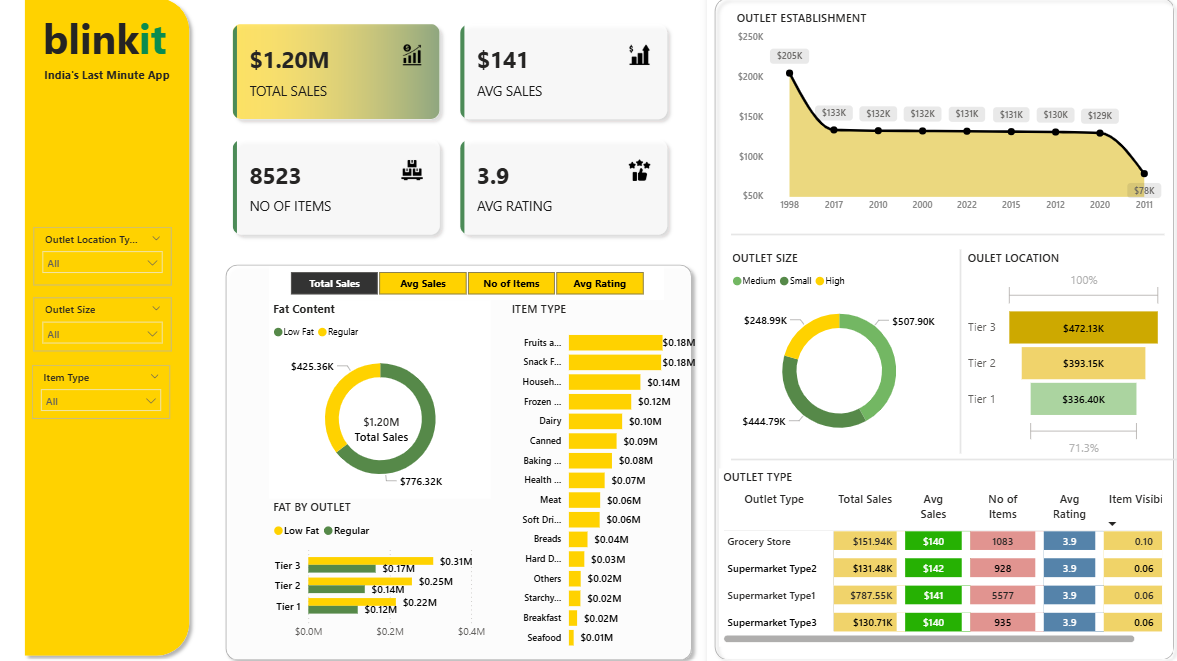

This screenshot's page, from the dashboard's own definition file:
{"tool":"powerbi","page":{"name":"Page 1","canvas":[1398,800],"ordinal":0},"visuals":[{"type":"shape","box":[837.7,0,560.2,798.8],"z":0},{"type":"shape","box":[24.7,0,212.1,793.5],"z":1000},{"type":"textbox","box":[37.1,17.7,182,81.3],"z":2000},{"type":"textbox","box":[24.7,84.8,212.1,40.6],"z":3000},{"type":"cardVisual","fields":{"Data":["blinkit_data - Copy.Total Sales","blinkit_data - Copy.Avg Sales","blinkit_data - Copy.No of Items","blinkit_data - Copy.Avg Rating"]},"box":[261.6,23,546.1,282.8],"z":4000},{"type":"shape","box":[261.6,314.6,567.3,484.3],"z":5000},{"type":"donutChart","title":"Fat Content","fields":{"Y":["blinkit_data - Copy.Total Sales"],"Category":["blinkit_data - Copy.Item Fat Content"]},"box":[321.7,365.8,261.6,233.3],"z":6000},{"type":"slicer","fields":{"Values":["Metrics.Metrics"]},"box":[321.7,325.2,465,40],"z":7000},{"type":"cardVisual","fields":{"Data":["blinkit_data - Copy.Total Sales"]},"box":[397.7,480.7,113.1,72.5],"z":8000},{"type":"clusteredBarChart","title":"FAT BY OUTLET","fields":{"Category":["blinkit_data - Copy.Outlet Location Type"],"Y":["blinkit_data - Copy.Total Sales"],"Series":["blinkit_data - Copy.Item Fat Content"]},"box":[321.7,599.1,261.6,175],"z":9000},{"type":"shape","box":[866,270.4,510.8,35.3],"z":10000},{"type":"shape","box":[1122.3,305.8,28.3,240.4],"z":11000},{"type":"barChart","title":"ITEM TYPE","fields":{"Y":["blinkit_data - Copy.Total Sales"],"Category":["blinkit_data - Copy.Item Type"]},"box":[602.7,365.8,226.2,420.6],"z":12000},{"type":"lineChart","title":"OUTLET ESTABLISHMENT","fields":{"Category":["blinkit_data - Copy.Outlet Establishment Year"],"Y":["blinkit_data - Copy.Total Sales"]},"box":[867.8,23,510.8,247.4],"z":13000},{"type":"donutChart","title":"OUTLET SIZE","fields":{"Y":["blinkit_data - Copy.Total Sales"],"Category":["blinkit_data - Copy.Outlet Size"]},"box":[862.5,305.8,261.6,240.4],"z":14000},{"type":"funnel","title":"OULET LOCATION","fields":{"Category":["blinkit_data - Copy.Outlet Location Type"],"Y":["blinkit_data - Copy.Total Sales"]},"box":[1139.9,305.8,238.6,249.2],"z":15000},{"type":"shape","box":[866,546.1,528.4,14.1],"z":16000},{"type":"pivotTable","title":"OUTLET TYPE","fields":{"Rows":["blinkit_data - Copy.Outlet Type"],"Values":["blinkit_data - Copy.Total Sales","blinkit_data - Copy.Avg Sales","blinkit_data - Copy.No of Items","blinkit_data - Copy.Avg Rating","Avg(blinkit_data - Copy.Item Visibility)"]},"box":[851.9,563.8,526.7,210.3],"z":17000},{"type":"slicer","fields":{"Values":["blinkit_data - Copy.Outlet Location Type"]},"box":[44.2,279.2,162.6,68.9],"z":18000},{"type":"slicer","fields":{"Values":["blinkit_data - Copy.Outlet Size"]},"box":[44.2,362.3,162.6,63.6],"z":19000},{"type":"slicer","fields":{"Values":["blinkit_data - Copy.Item Type"]},"box":[42.4,441.8,162.6,63.6],"z":20000}]}

Visuals, with their boxes in screenshot pixels (x1, y1, x2, y2), scaled from the page's 1398x800 canvas onto the 1177x661 screenshot:
shape: (705,0,1176,660)
shape: (21,0,199,656)
textbox: (31,15,184,82)
textbox: (21,70,199,104)
cardVisual - blinkit_data - Copy.Total Sales x blinkit_data - Copy.Avg Sales: (220,19,680,253)
shape: (220,260,698,660)
"Fat Content" donutChart: (271,302,491,495)
slicer - Metrics.Metrics: (271,269,662,302)
cardVisual - blinkit_data - Copy.Total Sales: (335,397,430,457)
"FAT BY OUTLET" clusteredBarChart: (271,495,491,640)
shape: (729,223,1159,253)
shape: (945,253,969,451)
"ITEM TYPE" barChart: (507,302,698,650)
"OUTLET ESTABLISHMENT" lineChart: (731,19,1161,223)
"OUTLET SIZE" donutChart: (726,253,946,451)
"OULET LOCATION" funnel: (960,253,1161,459)
shape: (729,451,1174,463)
"OUTLET TYPE" pivotTable: (717,466,1161,640)
slicer - blinkit_data - Copy.Outlet Location Type: (37,231,174,288)
slicer - blinkit_data - Copy.Outlet Size: (37,299,174,352)
slicer - blinkit_data - Copy.Item Type: (36,365,173,418)
